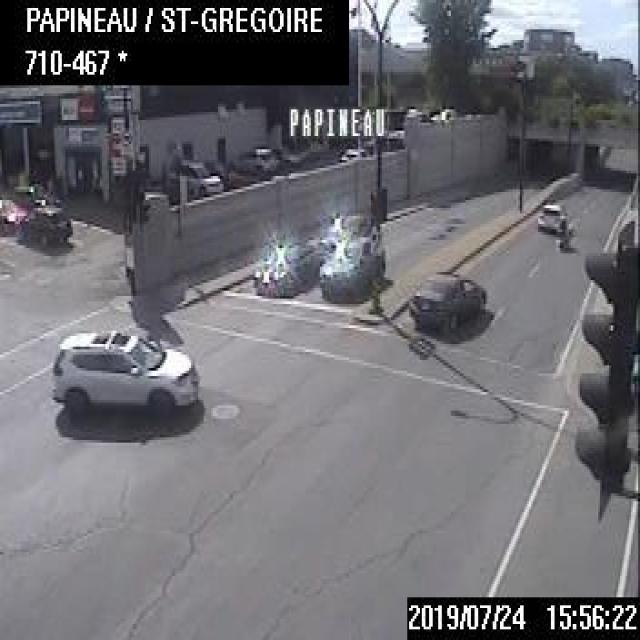vehicle: (47, 328, 196, 419), (408, 269, 486, 336), (317, 228, 386, 303), (251, 228, 318, 295), (314, 209, 379, 267), (18, 199, 72, 251), (166, 156, 224, 200), (231, 144, 279, 178), (0, 197, 25, 231), (535, 199, 560, 229), (555, 211, 574, 250)
